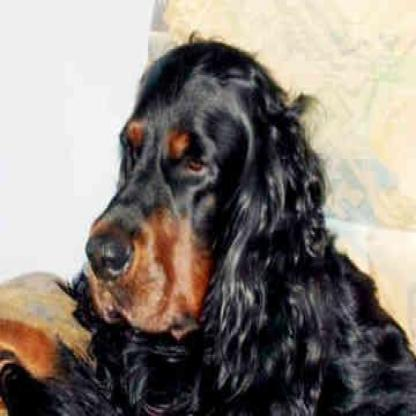Gordon_setter: (0, 34, 414, 414)
